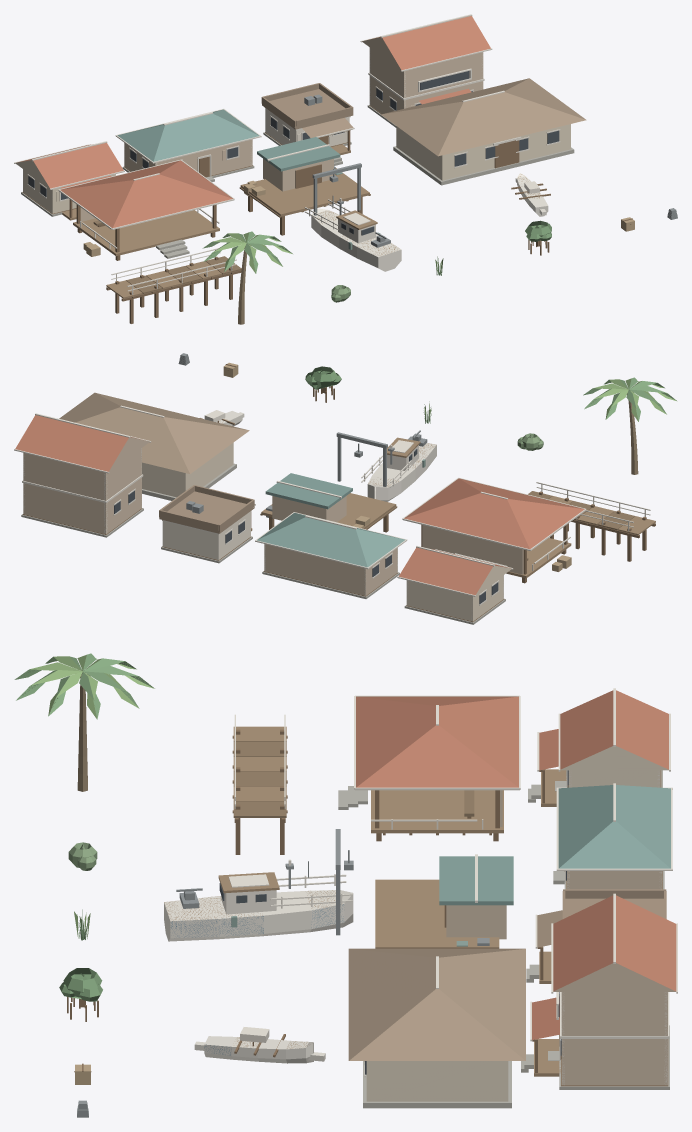
Rendered from common-kit.glb.
The picture shows the model from 3 angles, top to bottom: view 1: azimuth 30°, elevation 25°; view 2: azimuth 150°, elevation 25°; view 3: azimuth 270°, elevation 25°; orthographic projection. The views are drawn at different scales.
Parts seen in each view (by area): view 1: KIT_COMMUNITY_HALL, KIT_PAVILION, KIT_HOUSE_D, KIT_HOUSE_B, KIT_WORKING_LANDING, KIT_HOUSE_C, KIT_HOUSE_A, KIT_JETTY, KIT_BOAT_SURVEY, KIT_PALM, KIT_BOAT_LOCAL, KIT_MANGROVE; view 2: KIT_HOUSE_D, KIT_PAVILION, KIT_COMMUNITY_HALL, KIT_HOUSE_B, KIT_HOUSE_A, KIT_HOUSE_C, KIT_WORKING_LANDING, KIT_JETTY, KIT_BOAT_SURVEY, KIT_PALM, KIT_MANGROVE, KIT_BOAT_LOCAL; view 3: KIT_COMMUNITY_HALL, KIT_HOUSE_D, KIT_PAVILION, KIT_HOUSE_B, KIT_WORKING_LANDING, KIT_HOUSE_A, KIT_BOAT_SURVEY, KIT_JETTY, KIT_PALM, KIT_HOUSE_C, KIT_BOAT_LOCAL, KIT_MANGROVE.
Boxes of the visible parts, bbox=[...] form: KIT_COMMUNITY_HALL: bbox=[381, 78, 586, 185]; KIT_PAVILION: bbox=[58, 159, 234, 260]; KIT_HOUSE_D: bbox=[360, 14, 492, 127]; KIT_HOUSE_B: bbox=[115, 108, 261, 181]; KIT_WORKING_LANDING: bbox=[239, 137, 370, 235]; KIT_HOUSE_C: bbox=[261, 83, 354, 165]; KIT_HOUSE_A: bbox=[14, 141, 124, 220]; KIT_JETTY: bbox=[106, 248, 241, 323]; KIT_BOAT_SURVEY: bbox=[304, 195, 401, 271]; KIT_PALM: bbox=[202, 231, 292, 324]; KIT_BOAT_LOCAL: bbox=[511, 173, 550, 216]; KIT_MANGROVE: bbox=[525, 220, 551, 255]; KIT_HOUSE_D: bbox=[14, 413, 151, 537]; KIT_PAVILION: bbox=[402, 477, 586, 583]; KIT_COMMUNITY_HALL: bbox=[59, 392, 249, 500]; KIT_HOUSE_B: bbox=[255, 512, 407, 598]; KIT_HOUSE_A: bbox=[397, 546, 513, 624]; KIT_HOUSE_C: bbox=[159, 485, 255, 563]; KIT_WORKING_LANDING: bbox=[260, 432, 397, 532]; KIT_JETTY: bbox=[528, 482, 655, 561]; KIT_BOAT_SURVEY: bbox=[361, 430, 436, 501]; KIT_PALM: bbox=[583, 377, 677, 474]; KIT_MANGROVE: bbox=[305, 366, 341, 402]; KIT_BOAT_LOCAL: bbox=[199, 410, 244, 426]; KIT_COMMUNITY_HALL: bbox=[348, 948, 525, 1108]; KIT_HOUSE_D: bbox=[521, 893, 677, 1089]; KIT_PAVILION: bbox=[338, 695, 520, 841]; KIT_HOUSE_B: bbox=[553, 783, 672, 889]; KIT_WORKING_LANDING: bbox=[335, 829, 513, 948]; KIT_HOUSE_A: bbox=[528, 688, 670, 806]; KIT_BOAT_SURVEY: bbox=[164, 859, 353, 941]; KIT_JETTY: bbox=[232, 714, 287, 854]; KIT_PALM: bbox=[14, 653, 154, 791]; KIT_HOUSE_C: bbox=[526, 889, 666, 983]; KIT_BOAT_LOCAL: bbox=[194, 1027, 325, 1063]; KIT_MANGROVE: bbox=[59, 968, 102, 1021].
Size of the model in its own units: 50.84 by 10.33 by 37.46.
